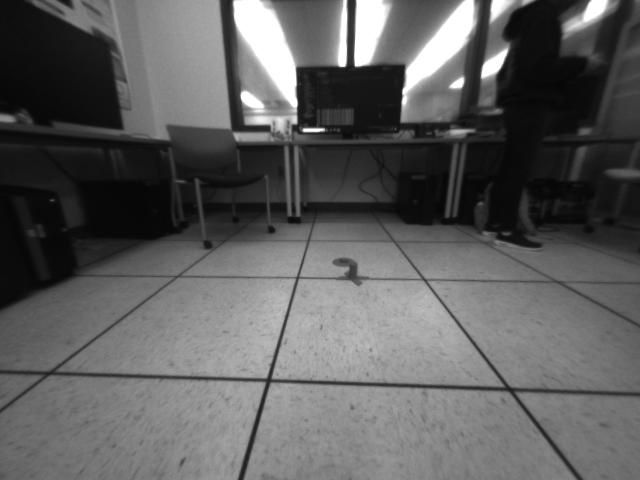X: (335, 262, 371, 287)
